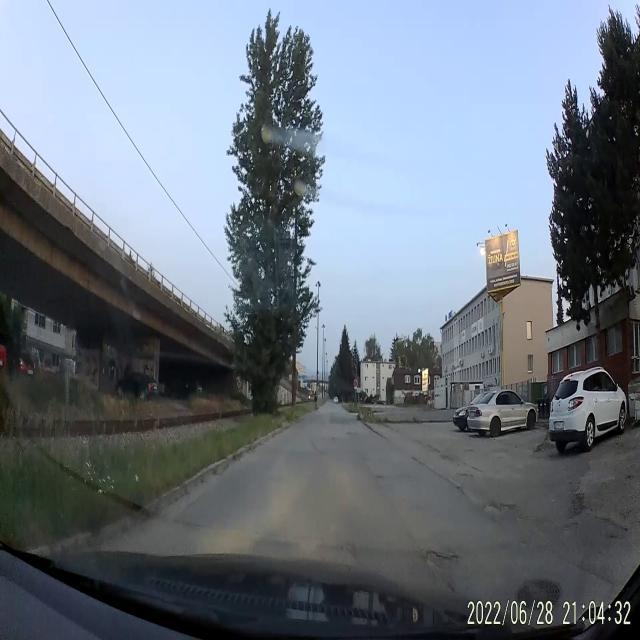Manhole: (515, 578, 563, 608)
Pothole: (424, 548, 462, 571)
